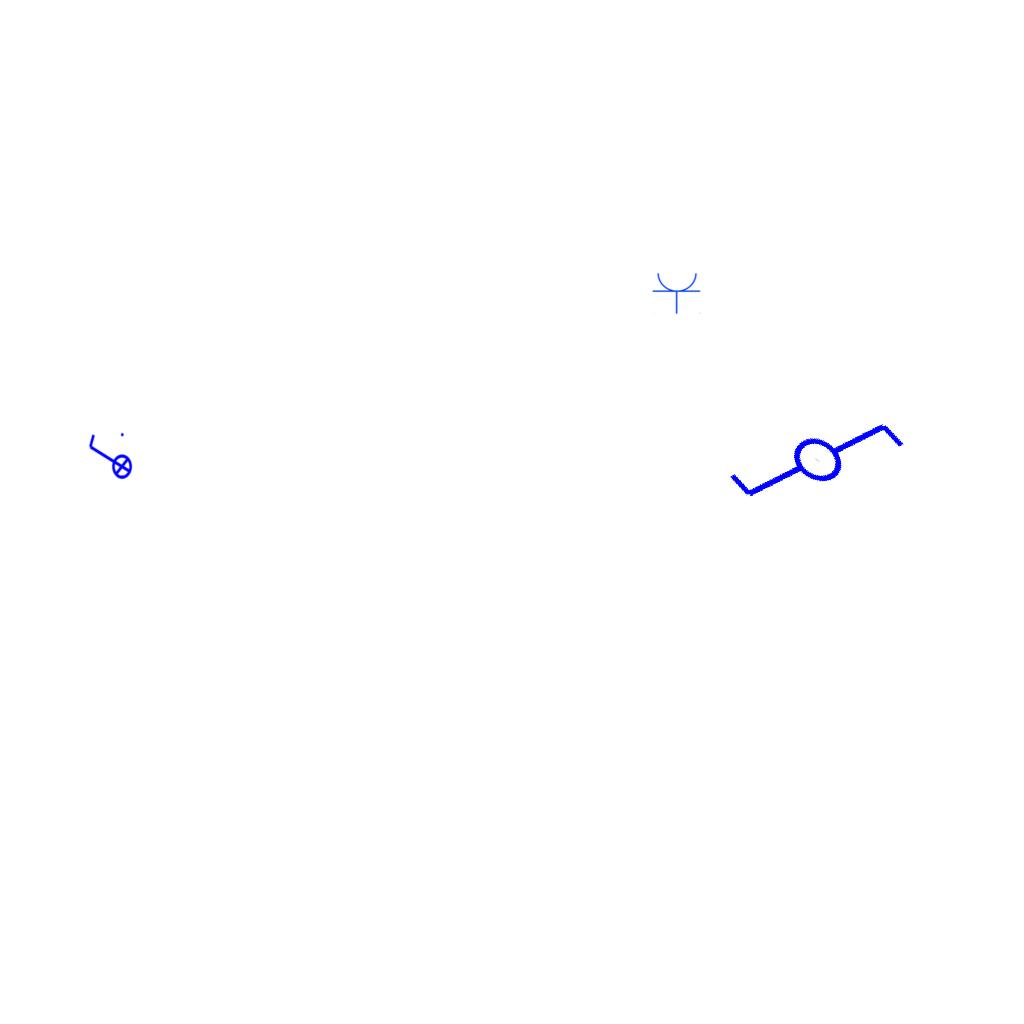Ausschalter_beleuchtet: (85, 430, 133, 486)
Schukosteckdose_einfach: (652, 271, 702, 314)
Wechselschalter: (719, 363, 928, 569)
